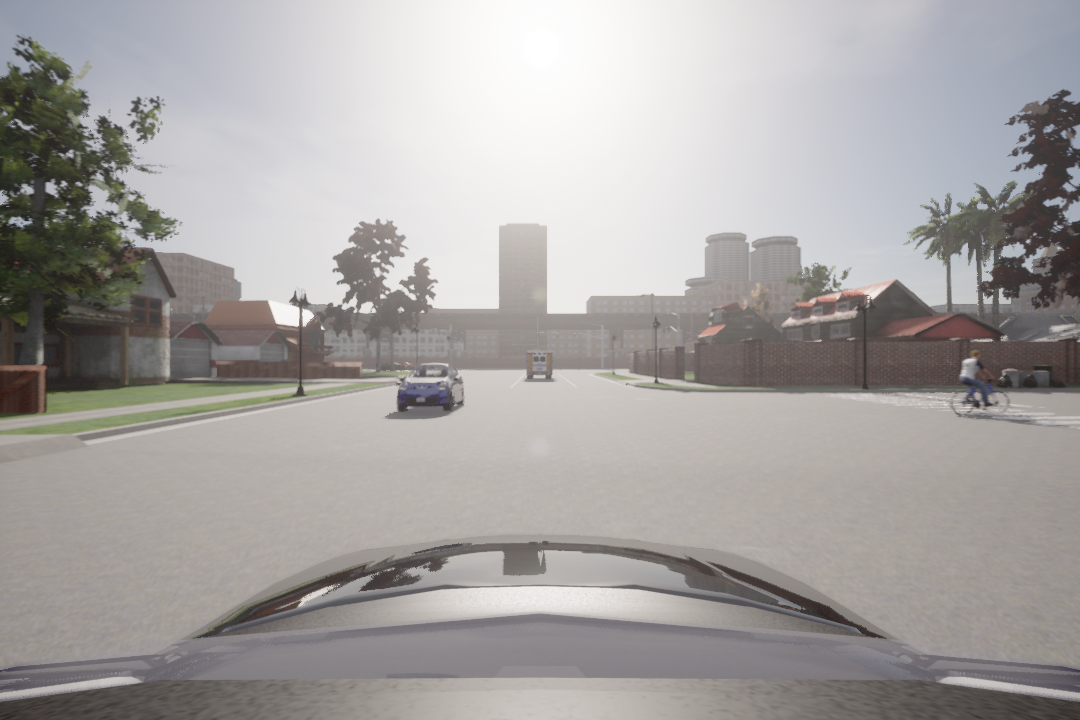walkside: (844, 391, 1080, 429)
